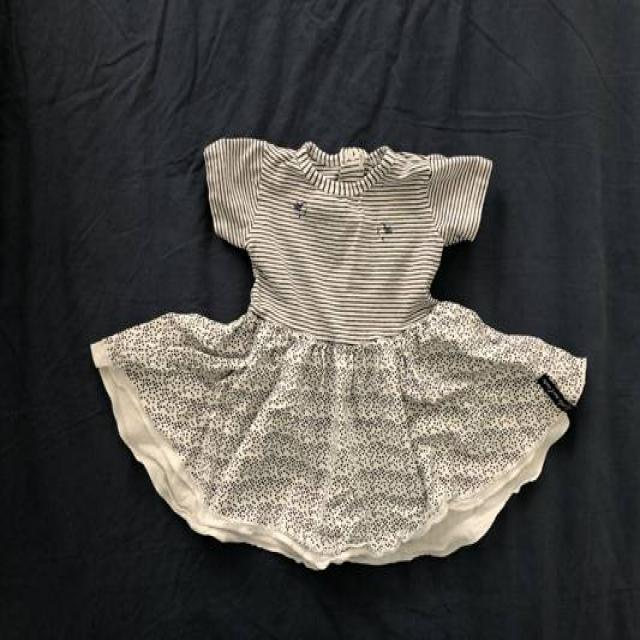Clothes -Biodegradable-: (89, 138, 584, 567)
